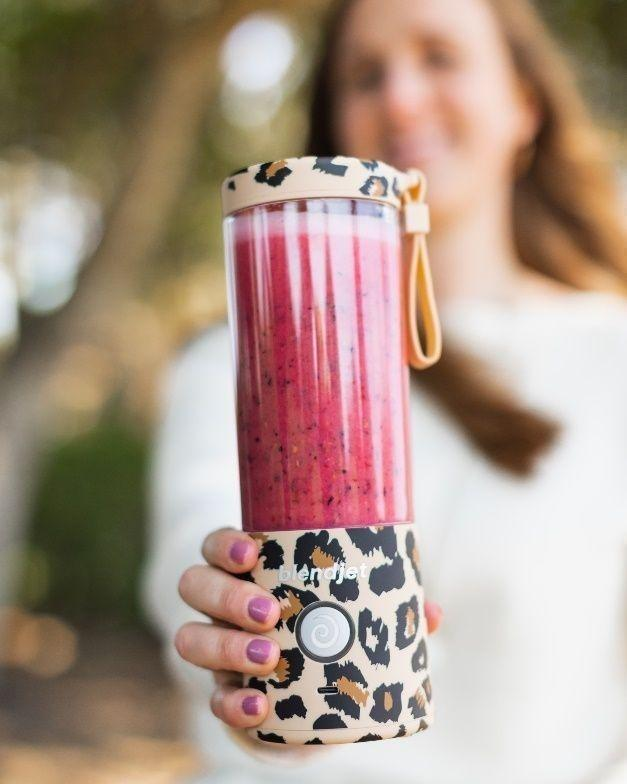gym bottle: (222, 155, 438, 751)
